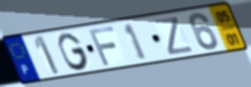1: (33, 34, 62, 77), (123, 21, 148, 62)
6: (188, 11, 220, 51)
F: (87, 25, 118, 67)
G: (57, 31, 91, 72)
Z: (153, 15, 197, 57)
